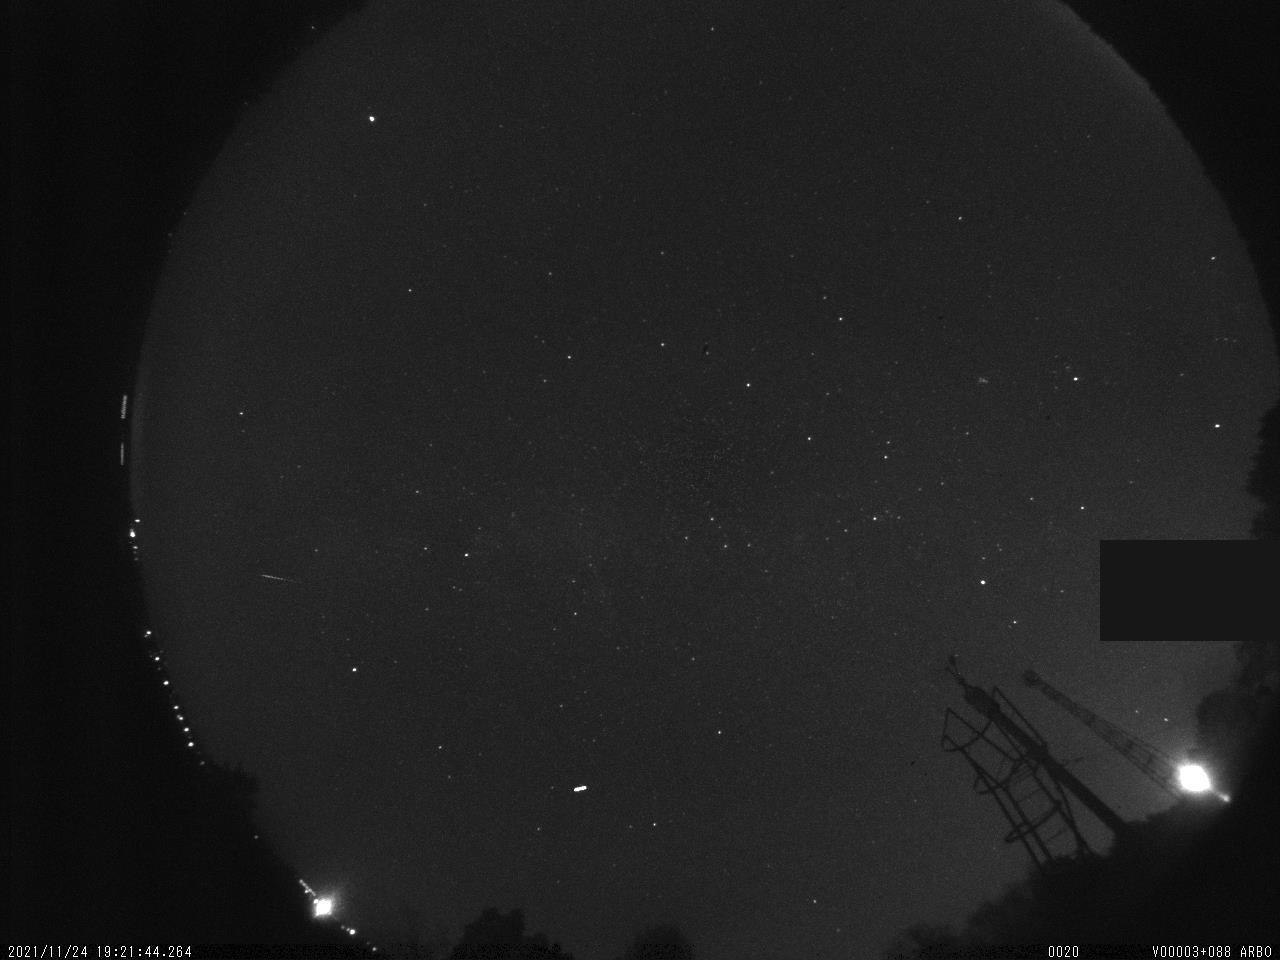meteor: (232, 556, 318, 599)
